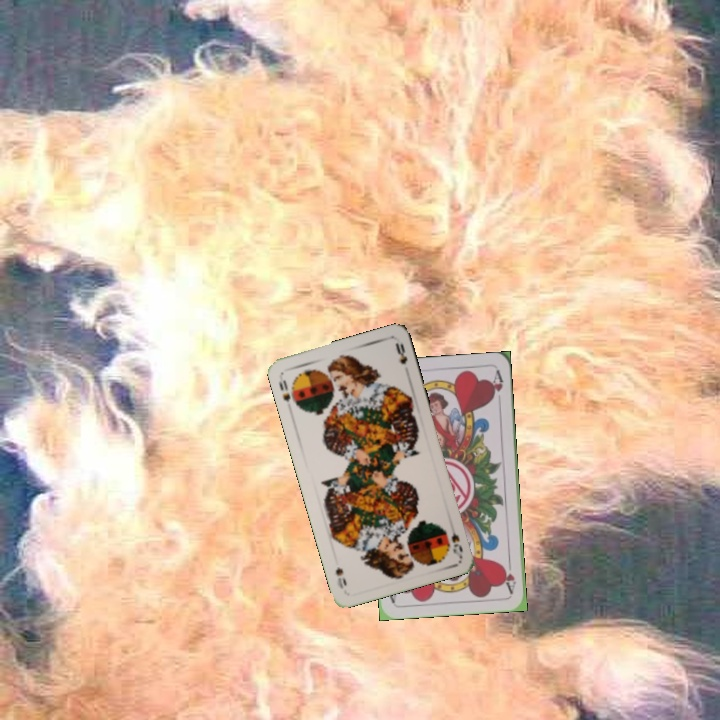HA: (500, 555, 518, 595)
SO: (447, 529, 465, 559), (275, 375, 293, 404)
